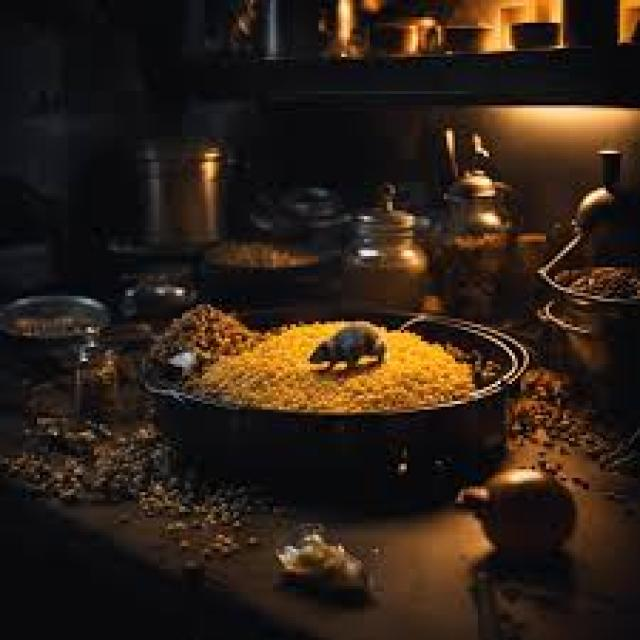rat: (307, 322, 384, 372)
